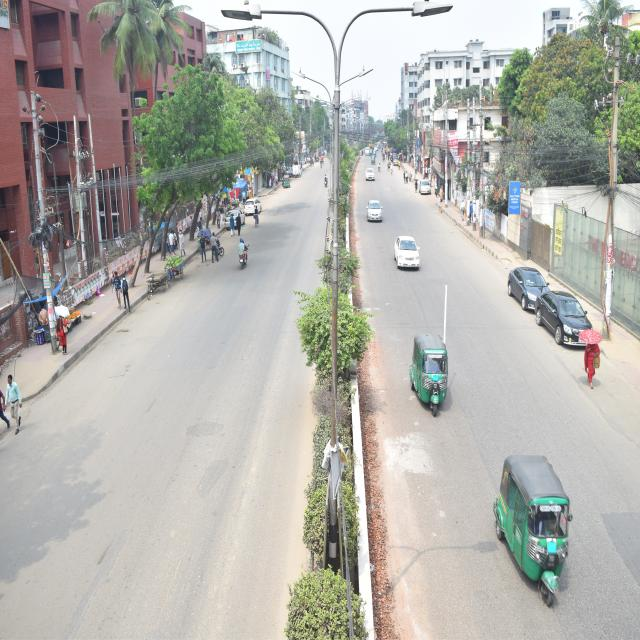car: (536, 286, 600, 355), (506, 264, 554, 314), (392, 230, 422, 272), (364, 195, 386, 228), (242, 198, 265, 216), (419, 173, 434, 198), (363, 163, 378, 184)
motorbike: (237, 239, 252, 273)
